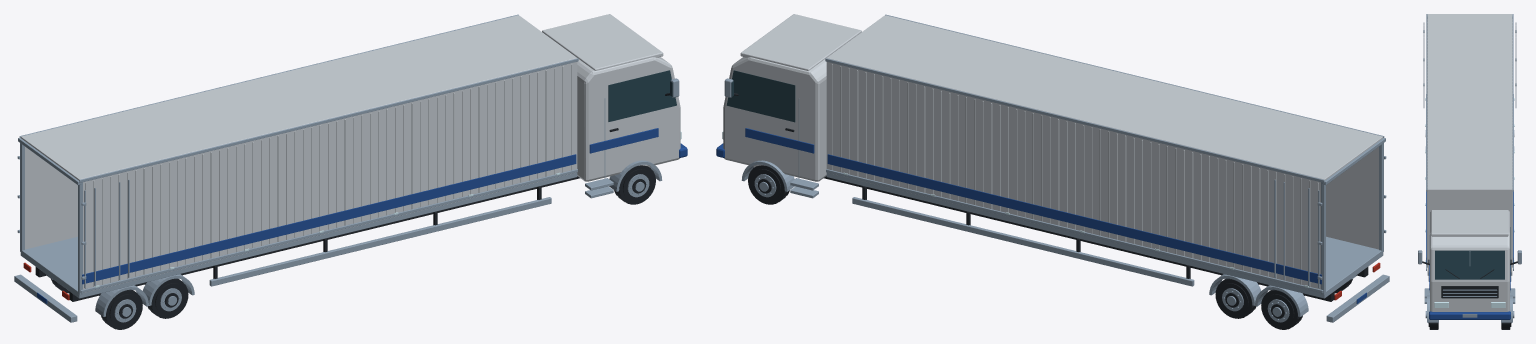
The model's file is SM_Replay_TruckBody.fbx.
3 renders of one model, left to right at view 1: azimuth 30°, elevation 25°; view 2: azimuth 150°, elevation 25°; view 3: azimuth 270°, elevation 25°, orthographic. The views are drawn at different scales.
Visible parts, largest first — view 1: SM_Replay_TruckBody; view 2: SM_Replay_TruckBody; view 3: SM_Replay_TruckBody.
Boxes of the visible parts, x1,y1,x2,y2 form: SM_Replay_TruckBody: (14,14,687,329); SM_Replay_TruckBody: (716,14,1389,329); SM_Replay_TruckBody: (1418,14,1521,329).
Size of the model in its own units: 1490 by 300 by 374.
